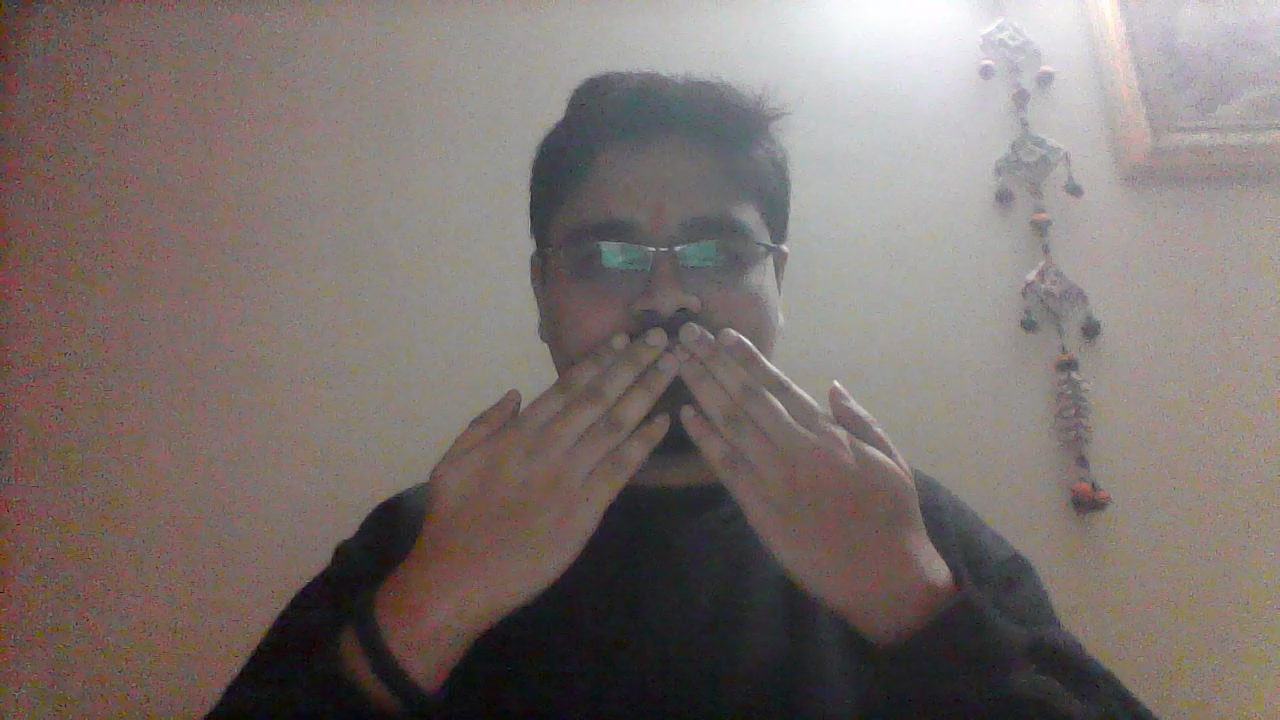Thanks: (403, 321, 926, 621)
